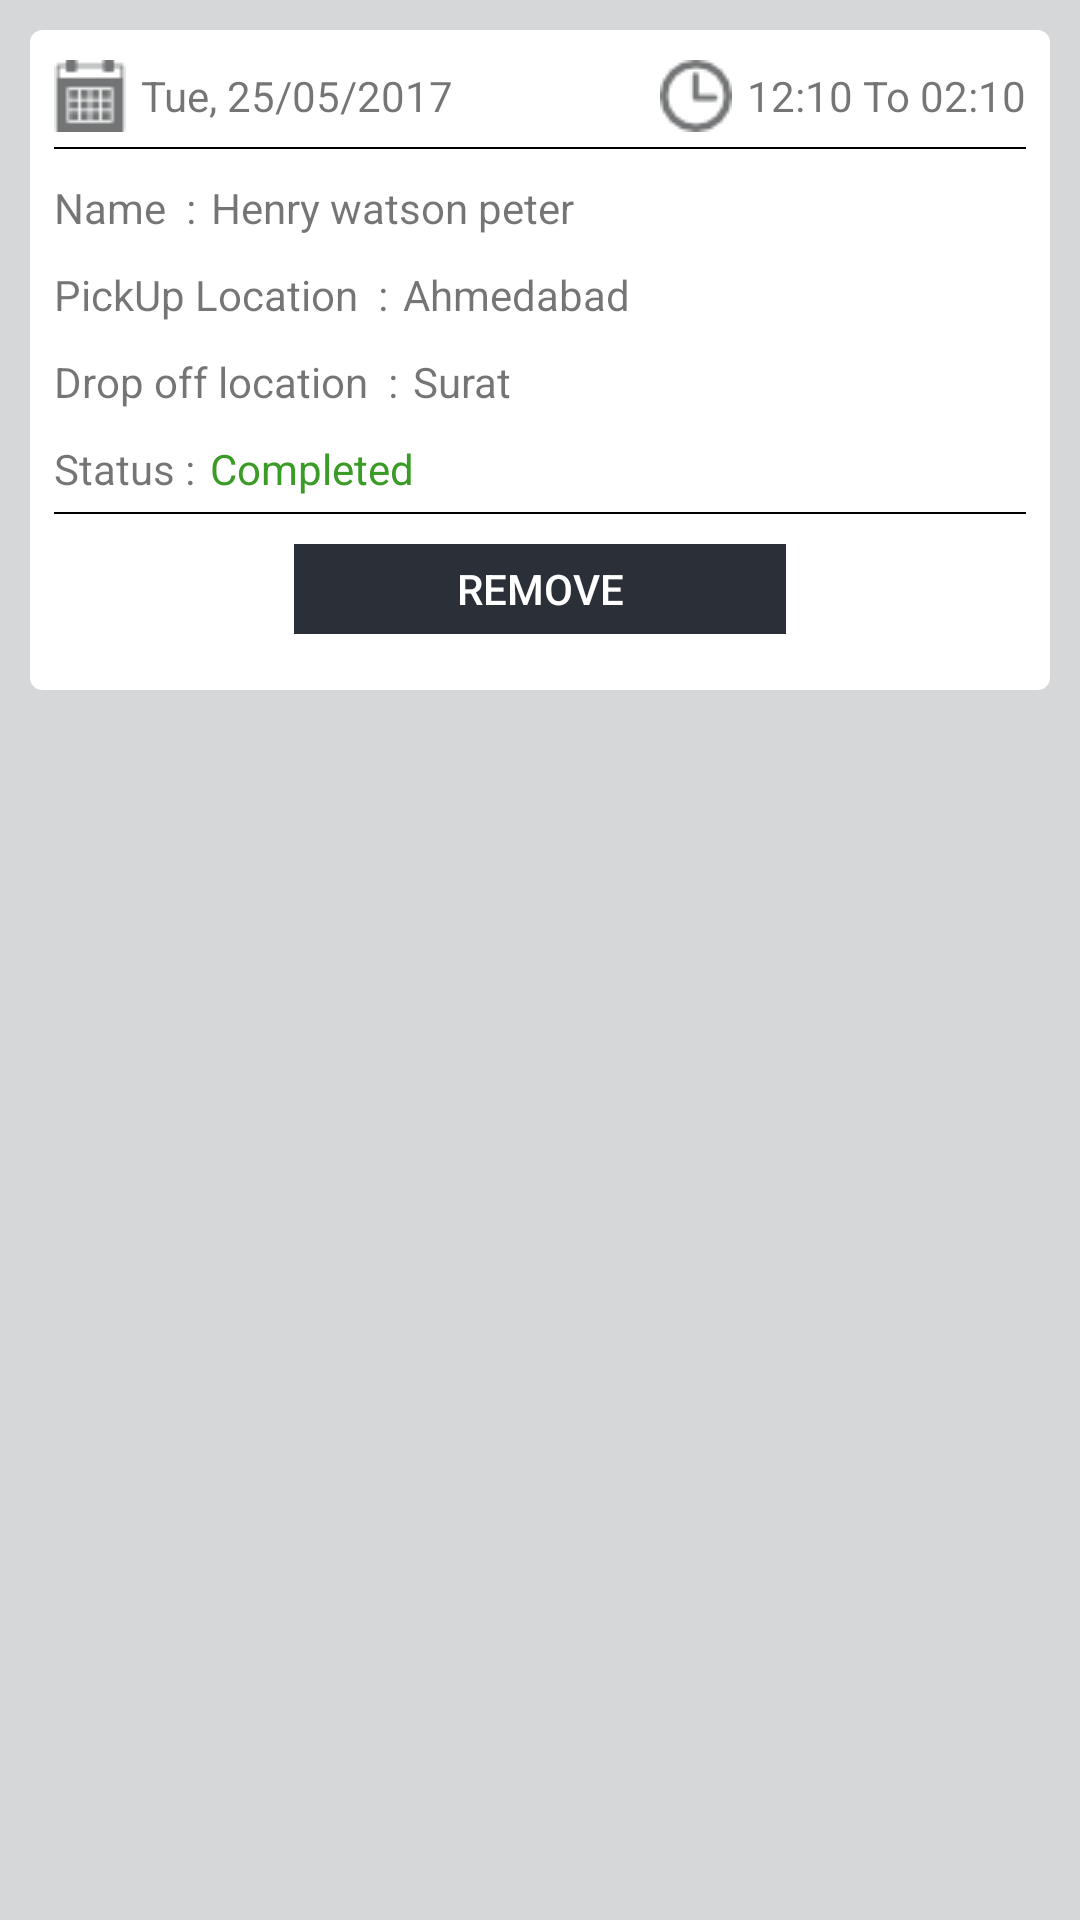

Point at icon controls on the screen. Image size 1080px×1920px, points as [x,y].
calendar: [90,96]
clock: [696,96]
